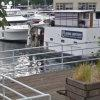Boat: (1, 3, 36, 45)
